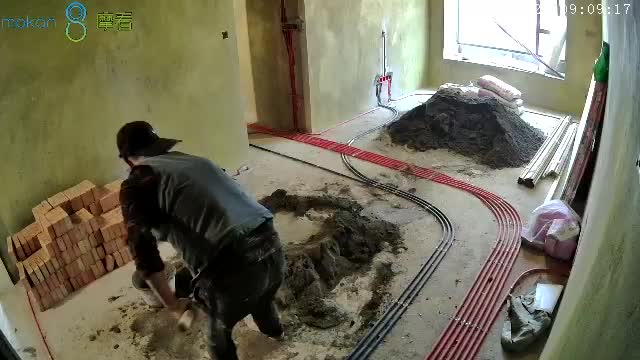people: (117, 120, 284, 360)
window: (457, 1, 567, 71)
